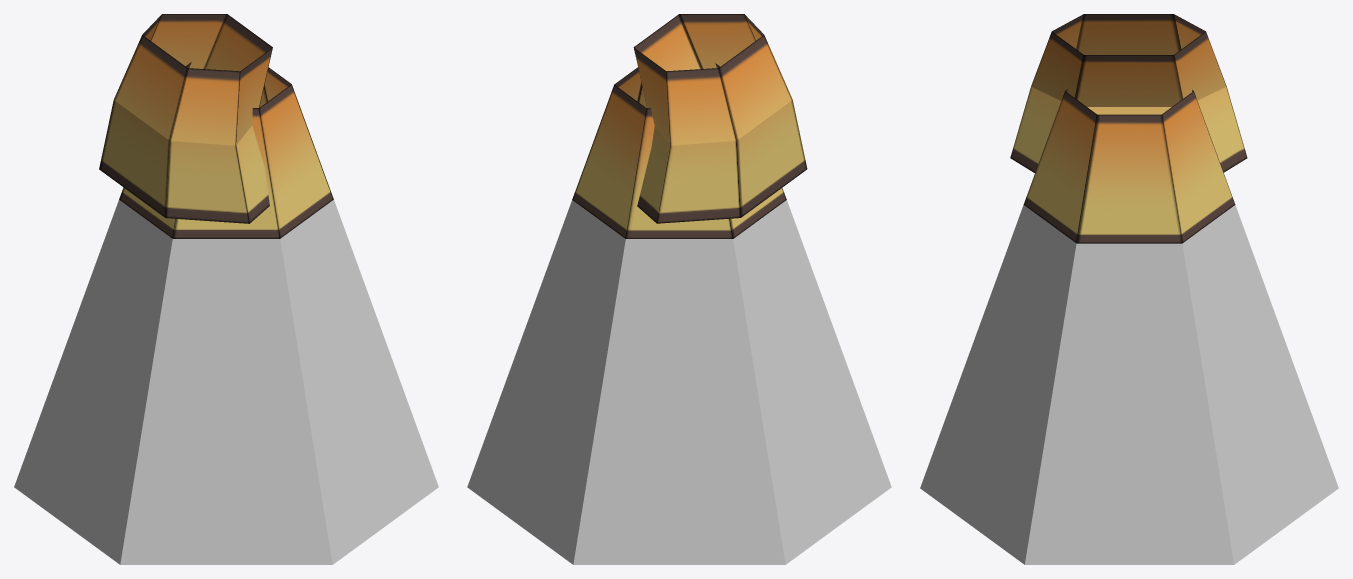
File: Lamp.fbx
3 views of the same model, side by side, from view 1: azimuth 30°, elevation 25°; view 2: azimuth 150°, elevation 25°; view 3: azimuth 270°, elevation 25° (orthographic).
Parts seen in each view (by area): view 1: LampLight, LampBroken2, Lamp; view 2: LampLight, LampBroken2, Lamp; view 3: LampLight, Lamp, LampBroken2.
Boxes of the visible parts, bbox=[...] form: LampLight: bbox=[14, 200, 438, 564]; LampBroken2: bbox=[99, 14, 272, 223]; Lamp: bbox=[119, 62, 333, 238]; LampLight: bbox=[467, 200, 891, 564]; LampBroken2: bbox=[633, 14, 807, 223]; Lamp: bbox=[572, 63, 786, 238]; LampLight: bbox=[920, 205, 1338, 564]; Lamp: bbox=[1023, 89, 1235, 243]; LampBroken2: bbox=[1010, 14, 1247, 172].
Size of the model in its own units: 75.36 by 102 by 87.02.
